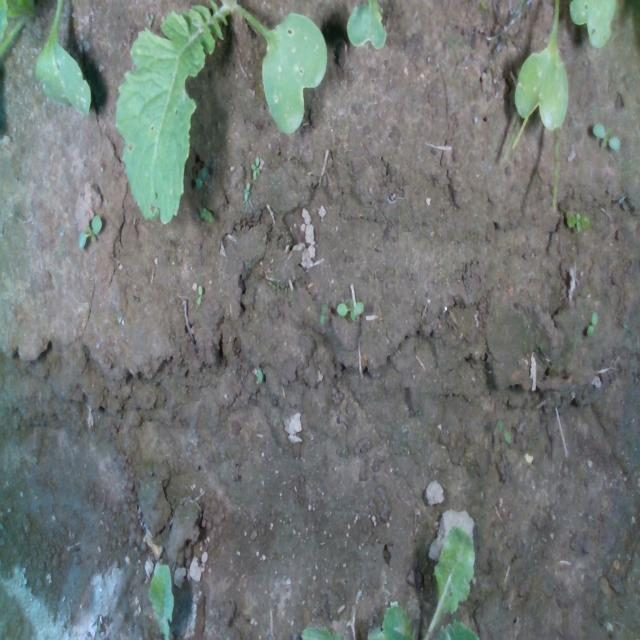weed: (77, 210, 103, 250)
